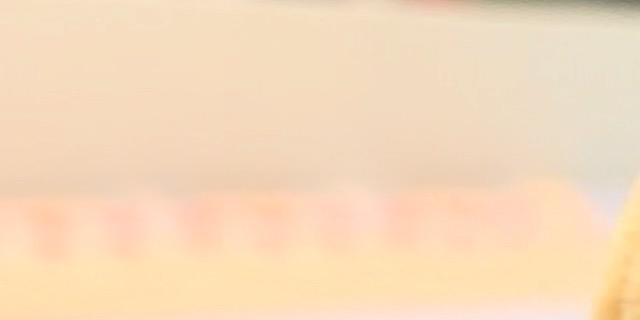burger: (410, 0, 640, 320)
